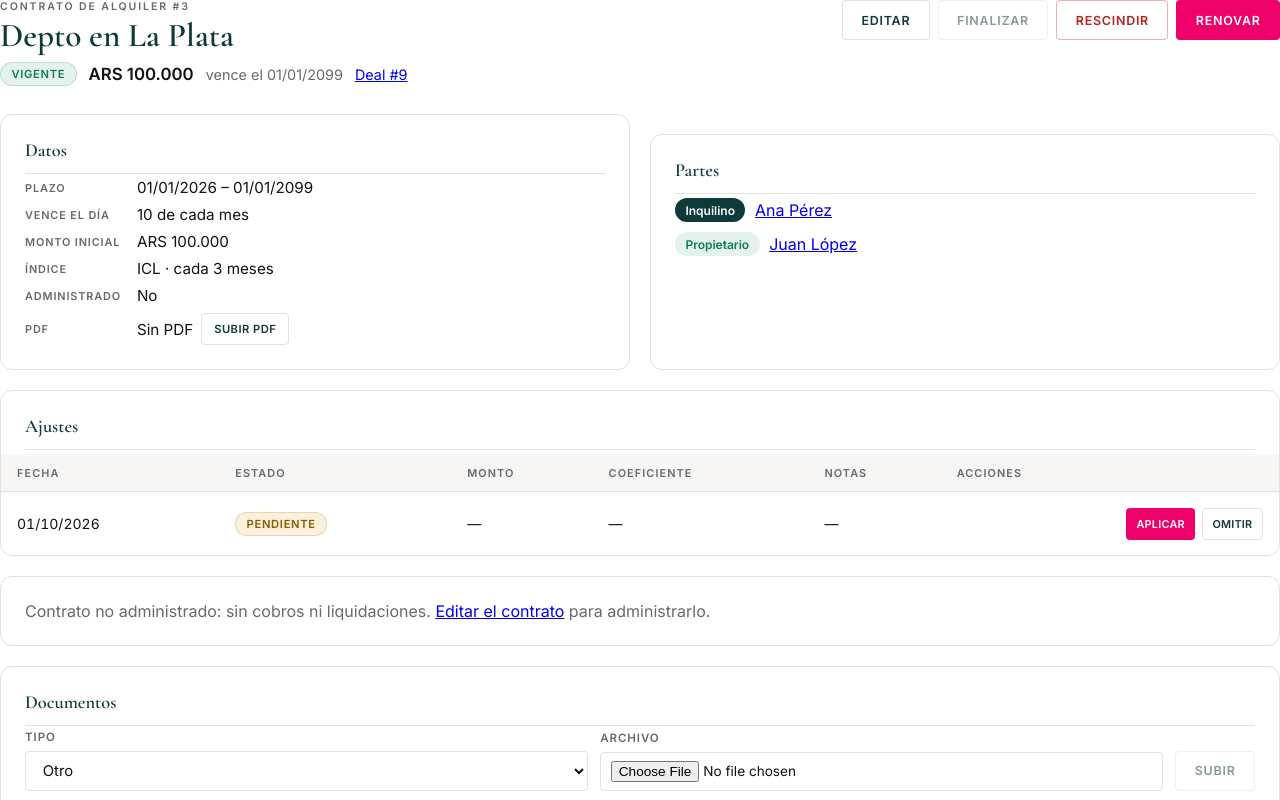
Test: rescindir pide fecha y motivo y manda ambos
The image size is (1280, 800).
Click the button "Rescindir" at (1112, 20), box [1056,0,1168,40]
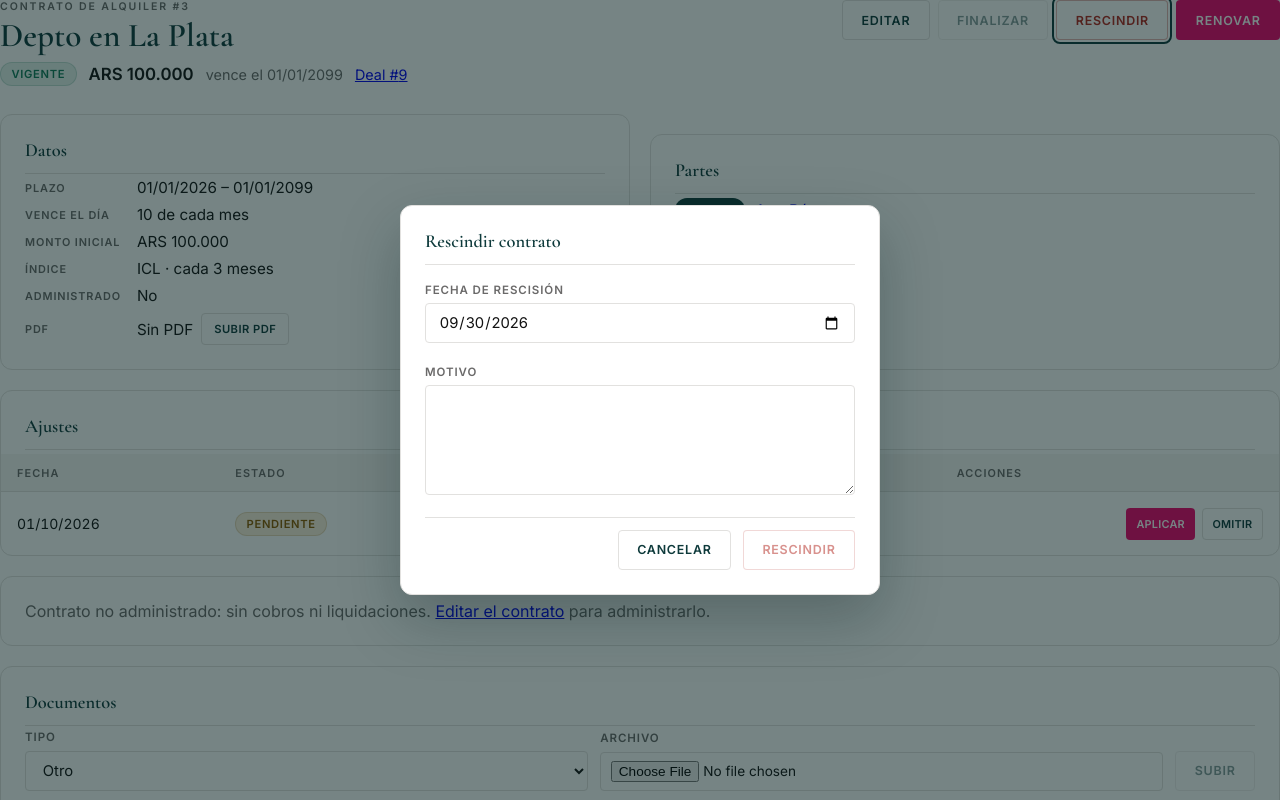
Type "Mudanza" into the text box labelled "Motivo" at (640, 440), box [425,385,855,495]
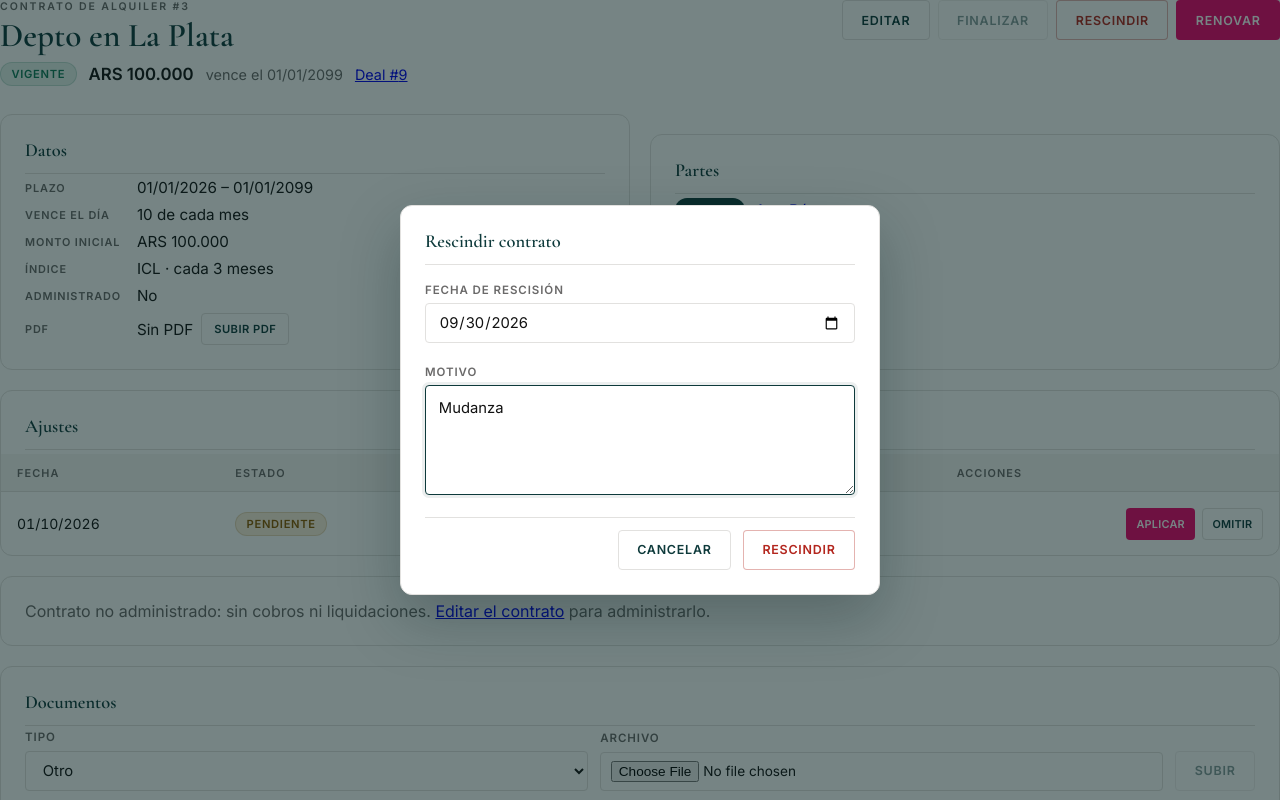
Click the button "Rescindir" at (799, 550), box [743,530,855,570]
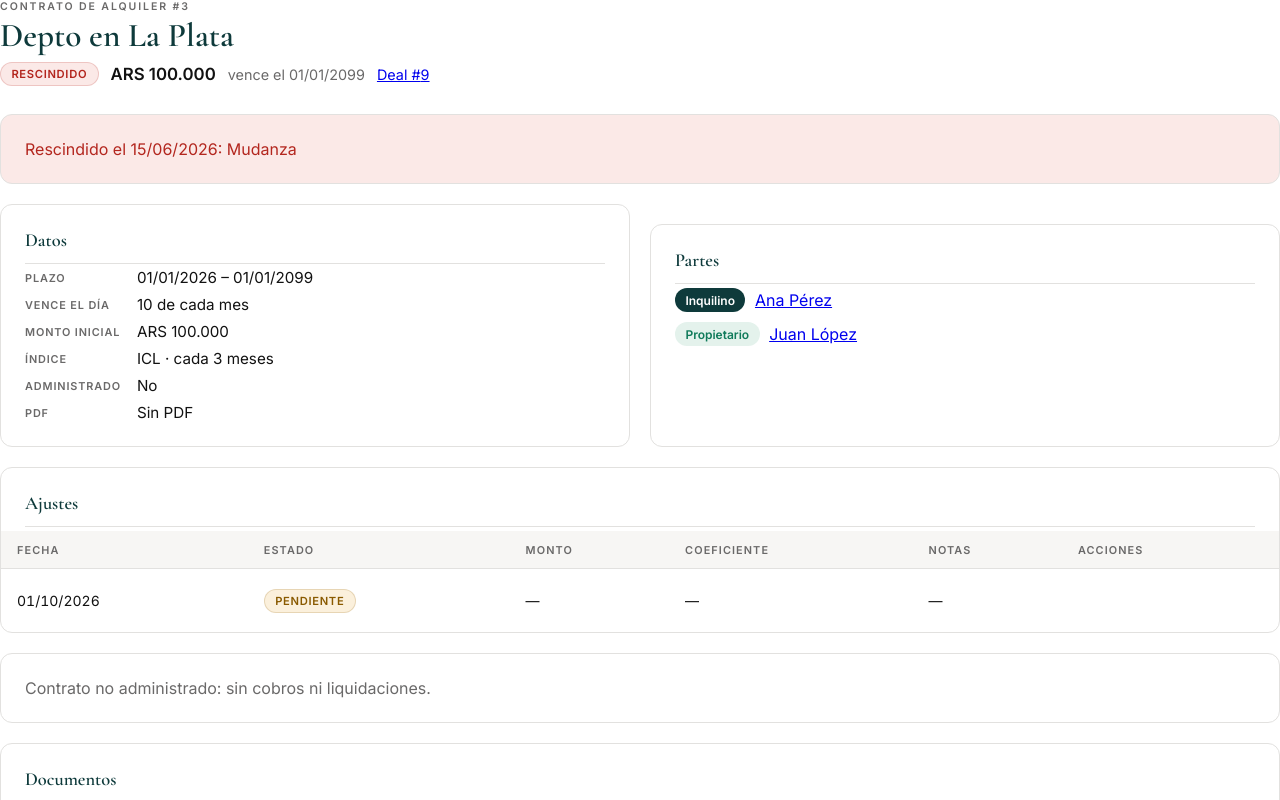
Result: the text "Rescindido el 15/06/2026: Mudanza" is shown at [0,114,1279,184]
